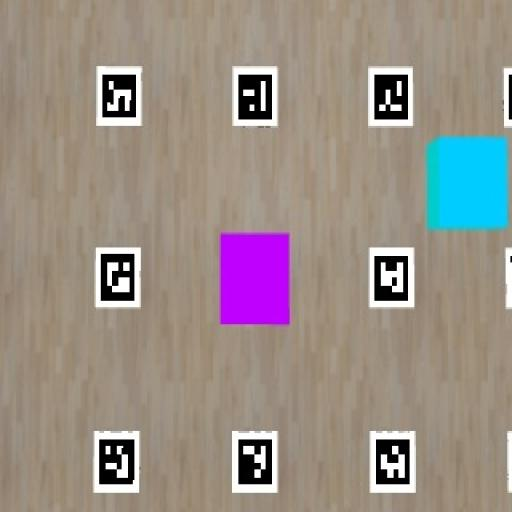car: (426, 137, 508, 230), (220, 233, 291, 326)
